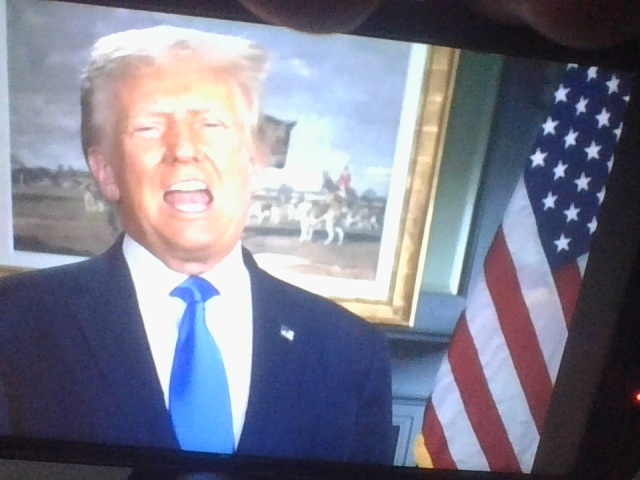fake: (100, 4, 282, 262)
